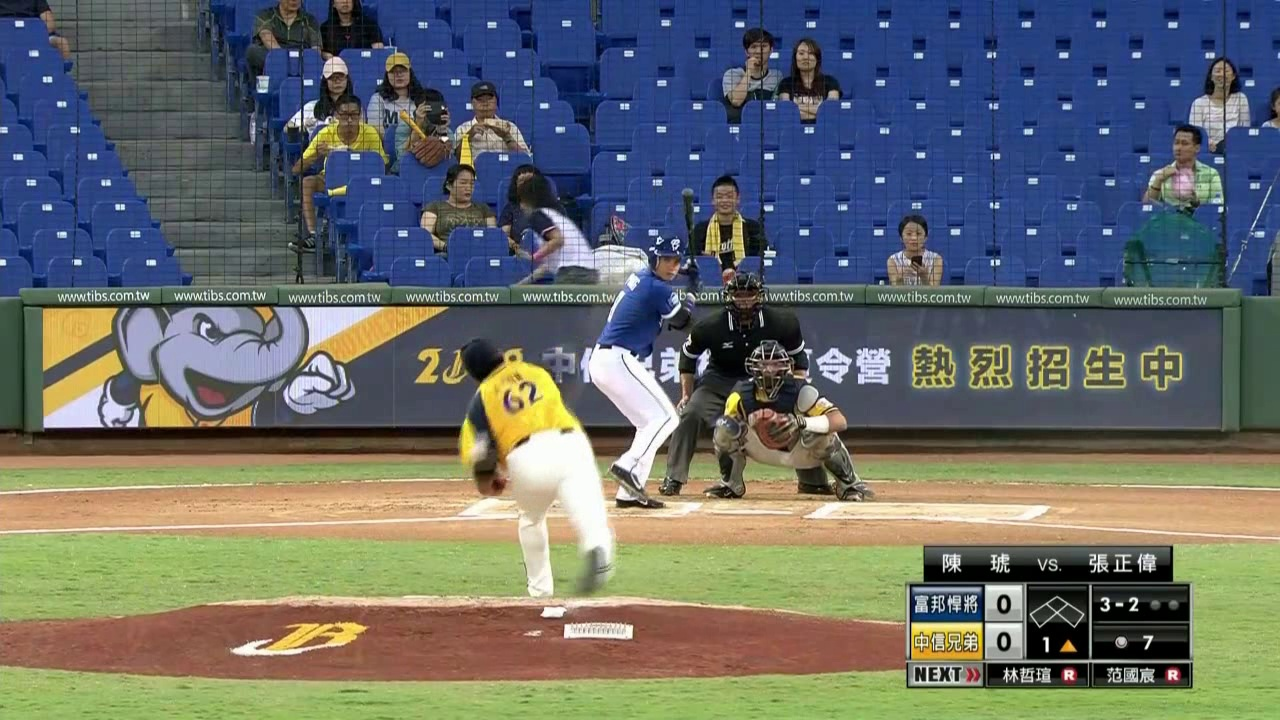ball: (633, 263, 648, 272)
base: (1029, 585, 1088, 629)
bat: (683, 189, 695, 273)
out: (1143, 591, 1181, 613)
score1: (987, 587, 1020, 616)
score2: (990, 624, 1024, 657)
session: (1032, 631, 1087, 660)
strikeball: (1095, 588, 1139, 617)
total: (1108, 630, 1157, 654)
